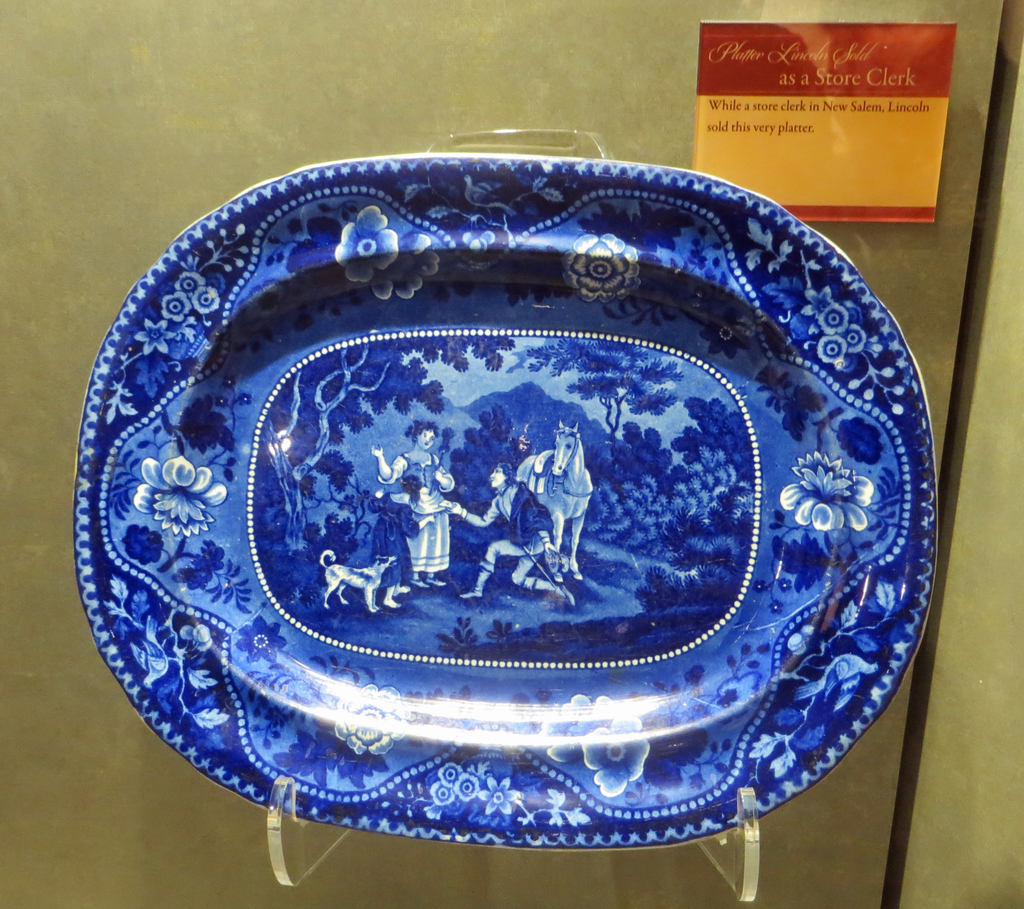plate: (71, 153, 938, 849)
